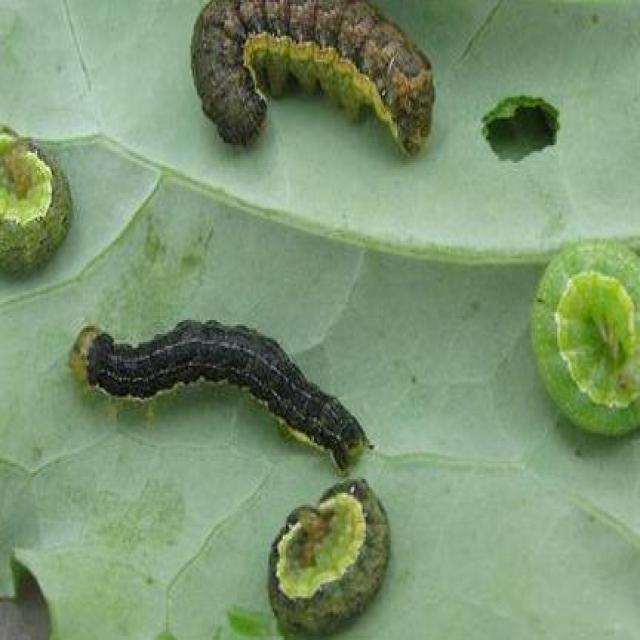armyworm: (66, 297, 371, 482), (187, 7, 444, 164), (256, 485, 392, 630), (545, 238, 637, 444), (4, 111, 64, 287)
